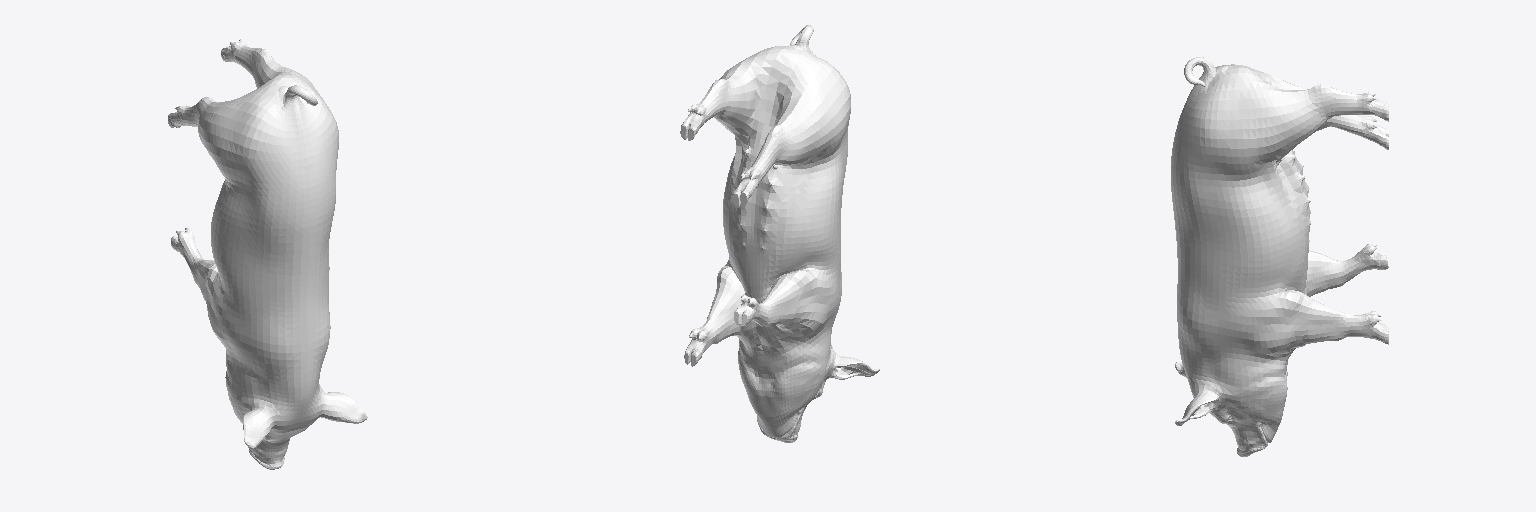
Rendered from pig.obj.
The picture shows the model from 3 angles: view 1: azimuth 30°, elevation 25°; view 2: azimuth 150°, elevation 25°; view 3: azimuth 270°, elevation 25°; orthographic projection.
Visible parts, largest first — view 1: Object.1; view 2: Object.1; view 3: Object.1.
Boxes of the visible parts, <box> form: Object.1: <box>168,39,367,469</box>; Object.1: <box>680,25,879,442</box>; Object.1: <box>1171,57,1388,456</box>.
Size of the model in its own units: 30.75 by 96.97 by 48.29.